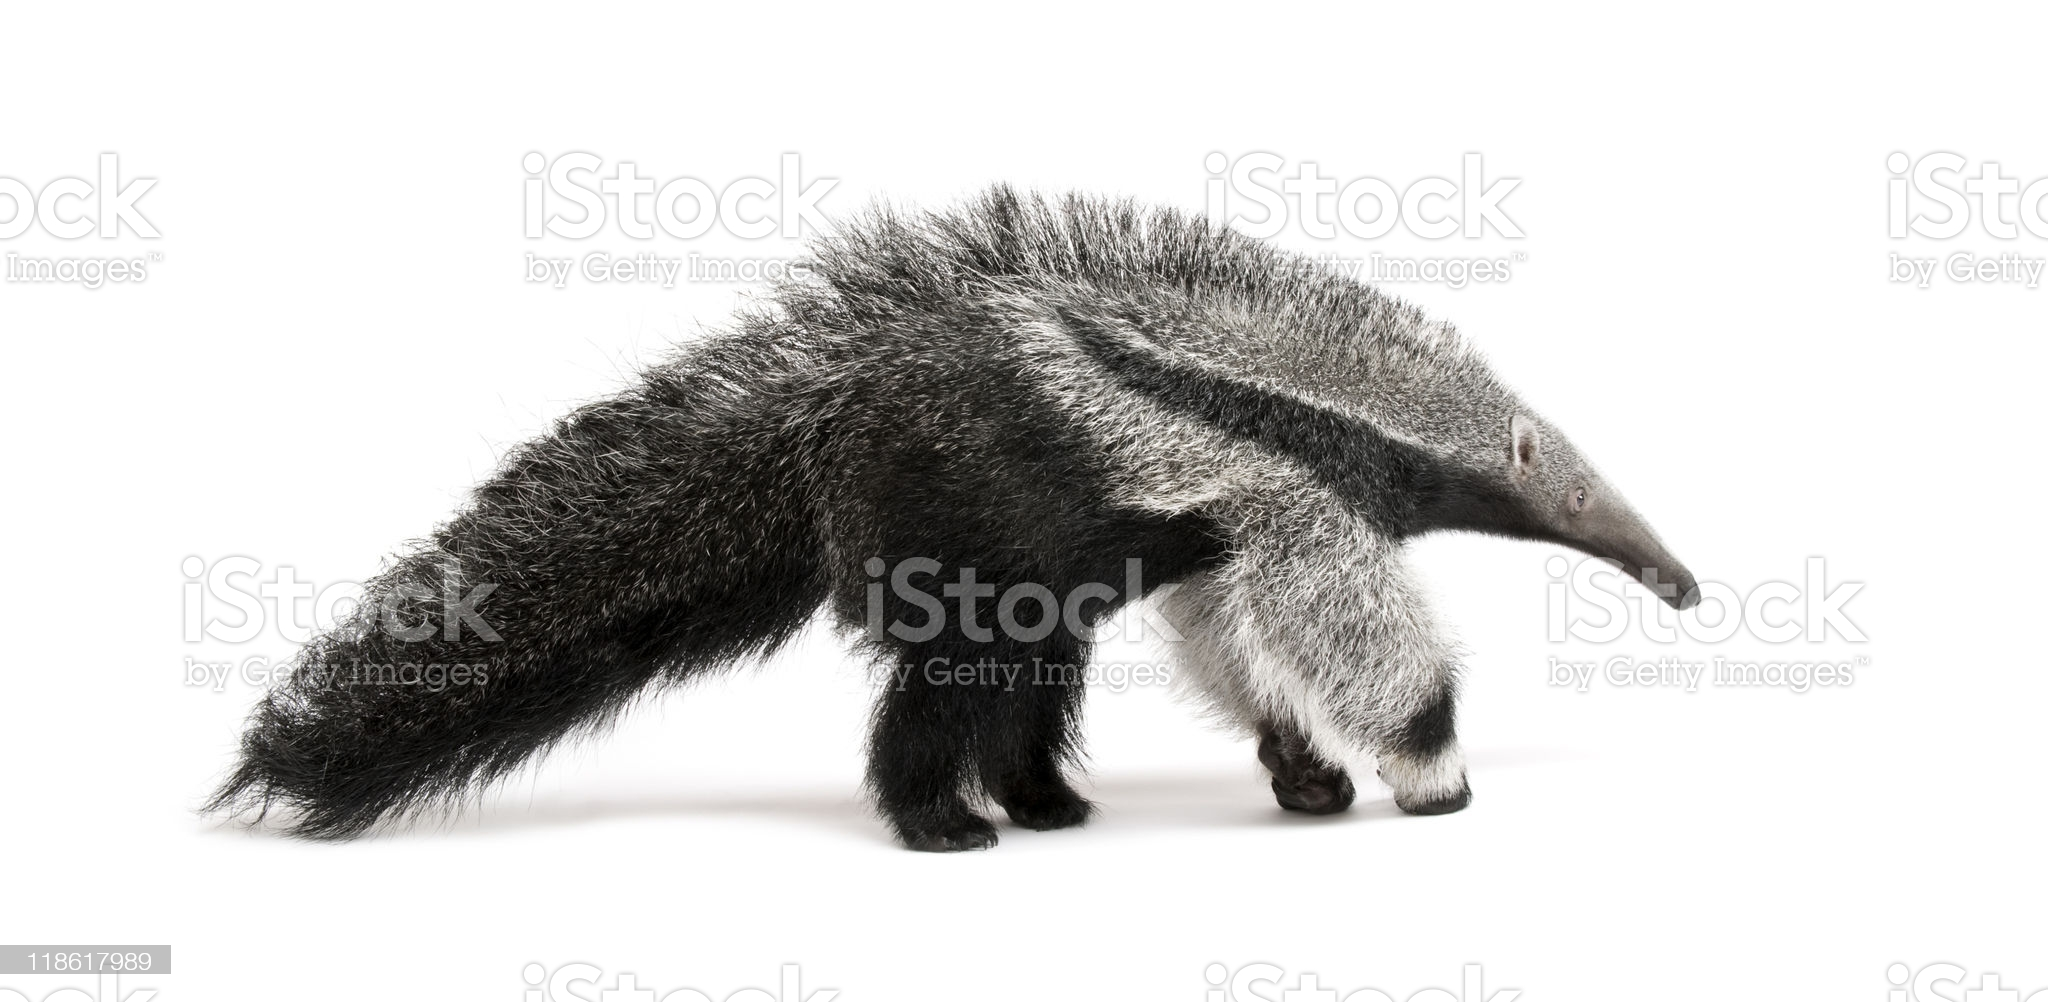TamanduaBandeira: (195, 200, 1704, 854)
